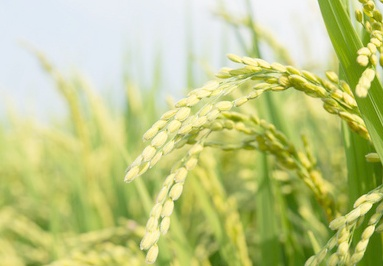rice: (119, 40, 366, 262)
